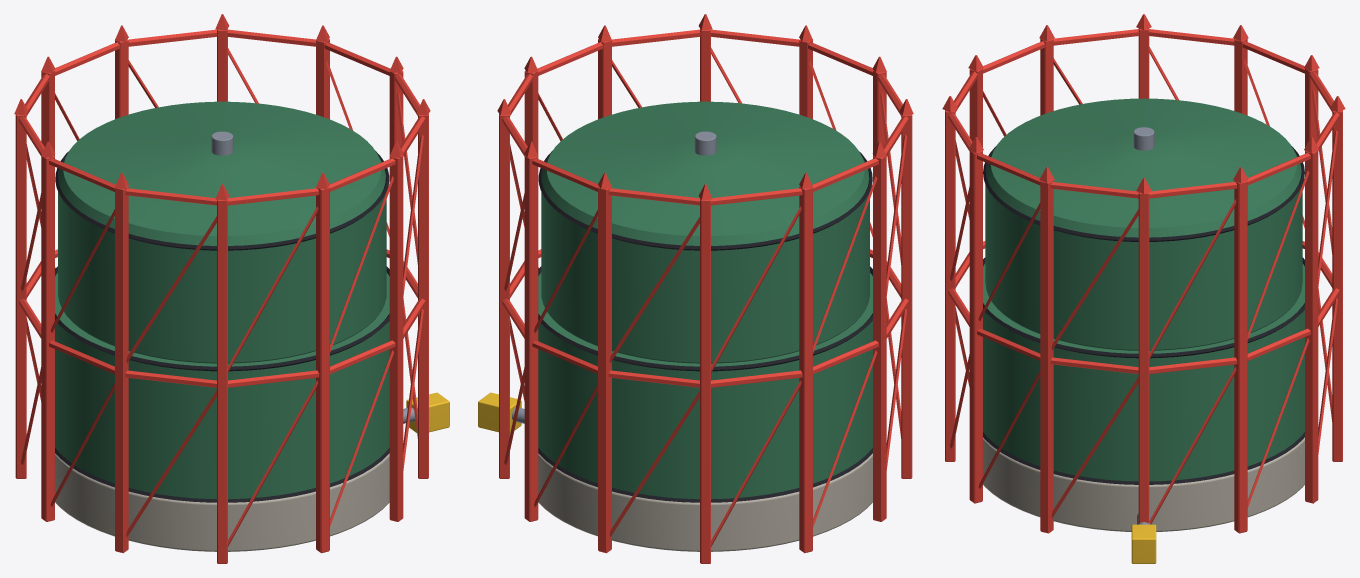
Rendered from gasholder.glb.
3 renders of one model, left to right at view 1: azimuth 30°, elevation 25°; view 2: azimuth 150°, elevation 25°; view 3: azimuth 270°, elevation 25°, orthographic. The views are drawn at different scales.
Parts seen in each view (by area): view 1: gasholder; view 2: gasholder; view 3: gasholder.
Part boxes in pixels (bbox=[...]): gasholder: bbox=[14, 14, 449, 563]; gasholder: bbox=[478, 14, 913, 563]; gasholder: bbox=[942, 14, 1345, 563].
Bounding box in the file's own units: 25.45 × 22.8 × 22.9.
1 material, 1 textured.
